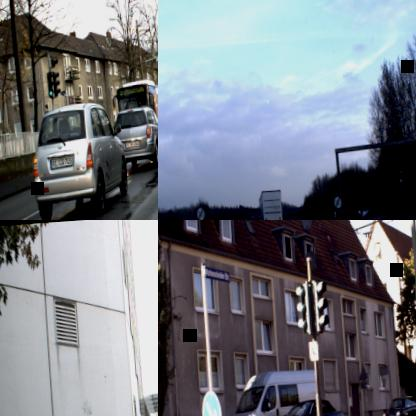keep right: (199, 389, 222, 416)
restriction ends: (334, 194, 342, 210), (196, 207, 205, 220)
